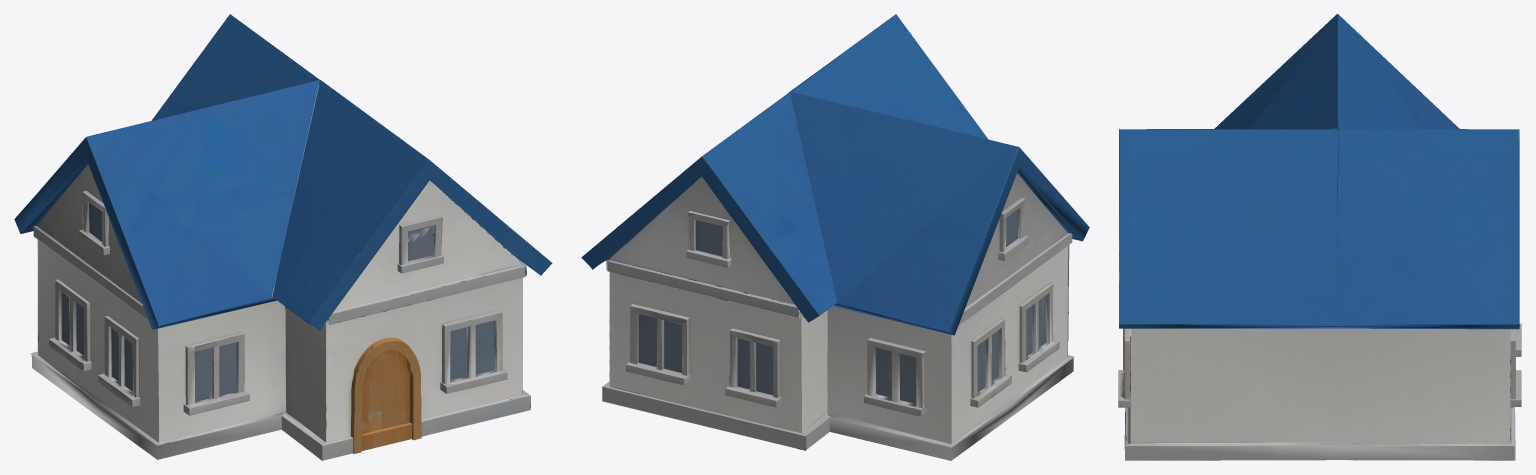
The model's file is 02-small-suburban-house-blue-roof.glb.
The picture shows the model from 3 angles, left to right: view 1: azimuth 30°, elevation 25°; view 2: azimuth 150°, elevation 25°; view 3: azimuth 270°, elevation 25°; orthographic projection. The views are drawn at different scales.
Parts seen in each view (by area): view 1: geometry_0; view 2: geometry_0; view 3: geometry_0.
Boxes of the visible parts, <box> form: geometry_0: <box>14,14,552,460</box>; geometry_0: <box>581,14,1089,460</box>; geometry_0: <box>1118,14,1521,460</box>.
Bounding box in the file's own units: 0.9492 × 0.7075 × 0.9204.
Materials: 1 (1 with a texture image).
